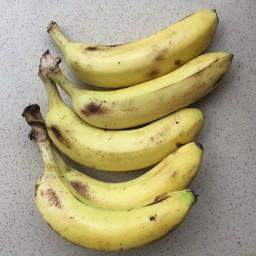Good_banana: (36, 7, 225, 88), (32, 172, 208, 254), (42, 90, 205, 170), (30, 137, 211, 200), (31, 65, 235, 105)
